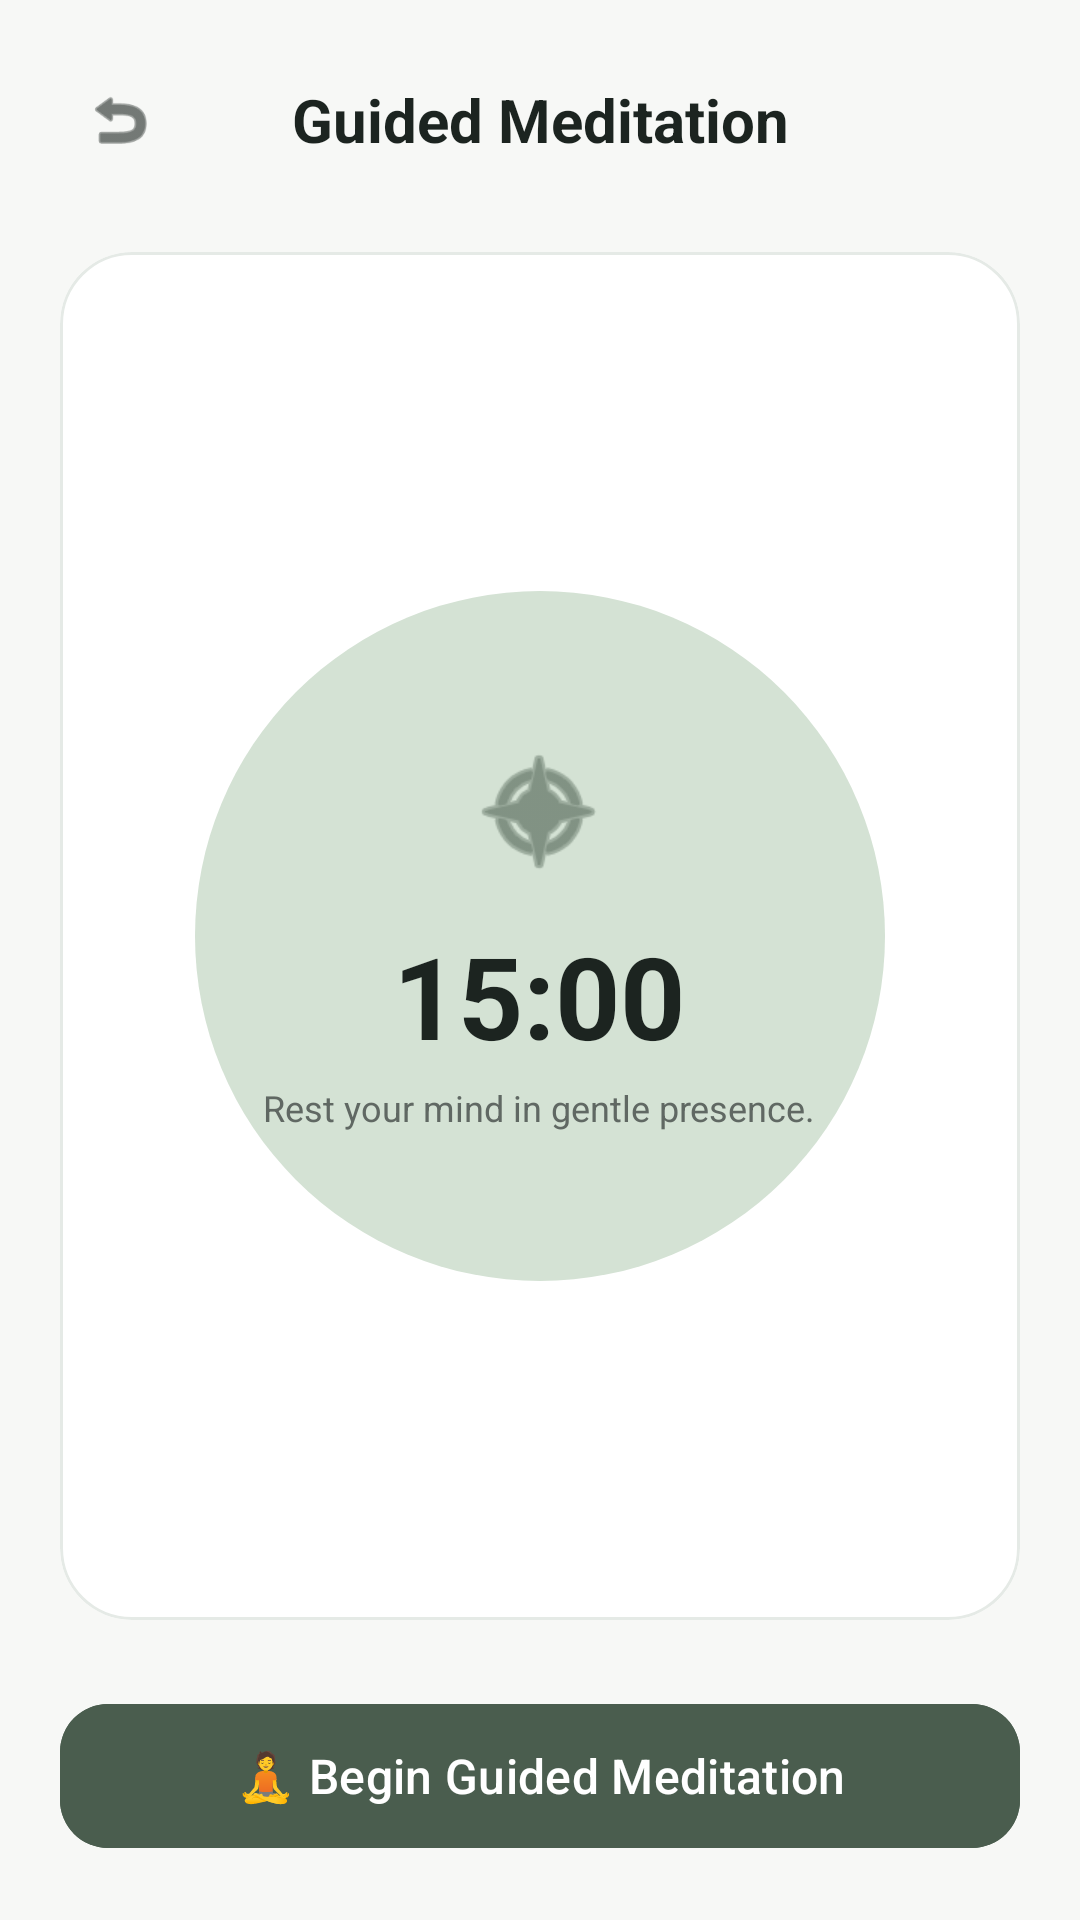

Locate icon controls on the screen. Image size 1080 x 1920, boxes as (x1, y1, x2, y2).
Back: (95, 97, 147, 144)
